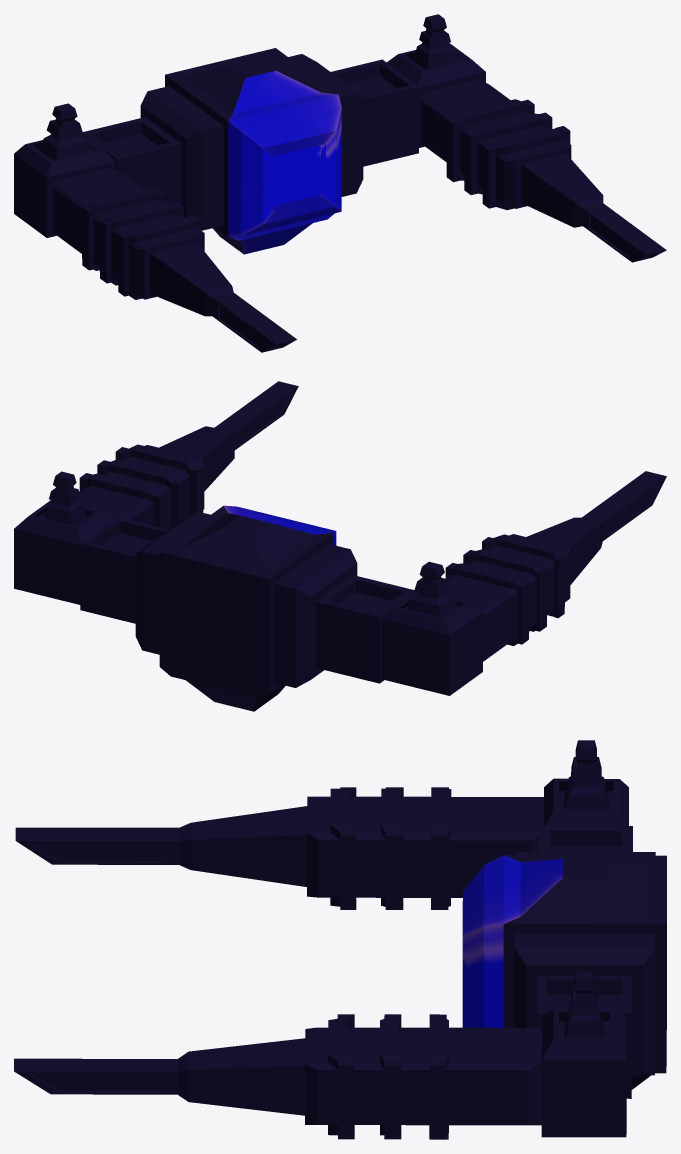
The model's file is Cañon1.fbx.
3 views of the same model, one above another, from view 1: azimuth 30°, elevation 25°; view 2: azimuth 150°, elevation 25°; view 3: azimuth 270°, elevation 25° (orthographic). The views are drawn at different scales.
Parts seen in each view (by area): view 1: pCube1; view 2: pCube1; view 3: pCube1.
Boxes of the visible parts, box(x1,y1,x2,y2) form: pCube1: box(14, 14, 666, 352); pCube1: box(14, 381, 666, 711); pCube1: box(14, 740, 666, 1139).
Bounding box in the file's own units: 6.6 × 2.53 × 6.56.
